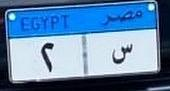2: (38, 41, 58, 73)
seen: (109, 43, 135, 67)
